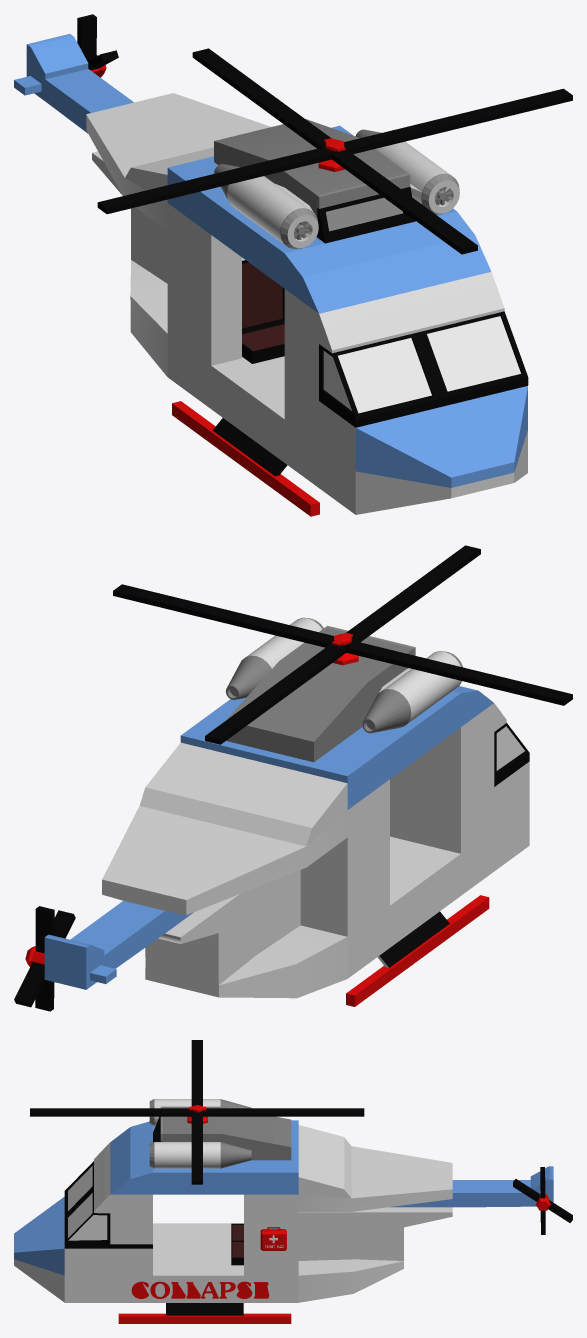
File: HelicopterExtoUni.fbx
3 renders of one model, top to bottom at view 1: azimuth 30°, elevation 25°; view 2: azimuth 150°, elevation 25°; view 3: azimuth 270°, elevation 25°, orthographic. The views are drawn at different scales.
Parts seen in each view (by area): view 1: typeMesh5, pCube8, pCube9, pCube10; view 2: typeMesh5, pCube8, pCube9, pCube11, pCube10; view 3: typeMesh5, pCube9, pCube8, pCube11.
Boxes of the visible parts, x1,y1,x2,y2 form: typeMesh5: (14,34,528,516); pCube8: (97,88,572,214); pCube9: (192,48,477,254); pCube10: (77,14,96,61); typeMesh5: (25,617,529,1006); pCube8: (113,584,572,705); pCube9: (205,545,480,744); pCube11: (14,910,75,1007); pCube10: (35,906,54,1011); typeMesh5: (14,1099,553,1323); pCube9: (30,1108,364,1116); pCube8: (191,1040,202,1184); pCube11: (513,1179,572,1222).
Size of the model in its own units: 2.46 by 1.54 by 4.12.
